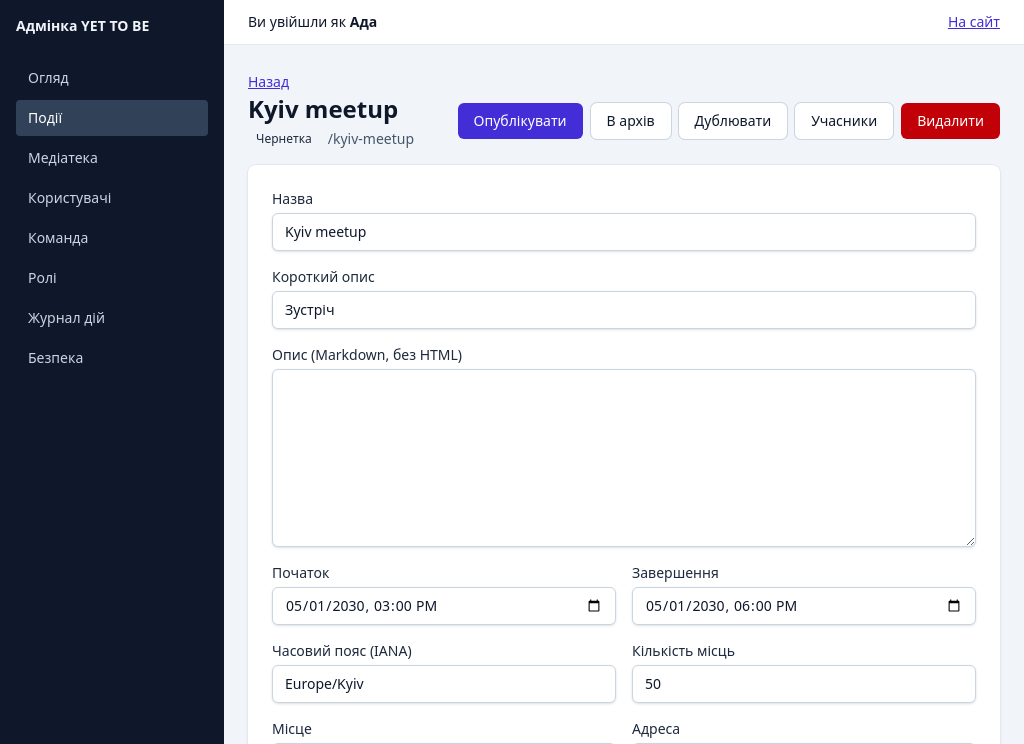
it: події › конфлікт версій показує вікно з пропозицією оновити
The image size is (1024, 744).
Click the button "Опублікувати" at coordinates (520, 121), box left=458, top=103, right=582, bottom=139
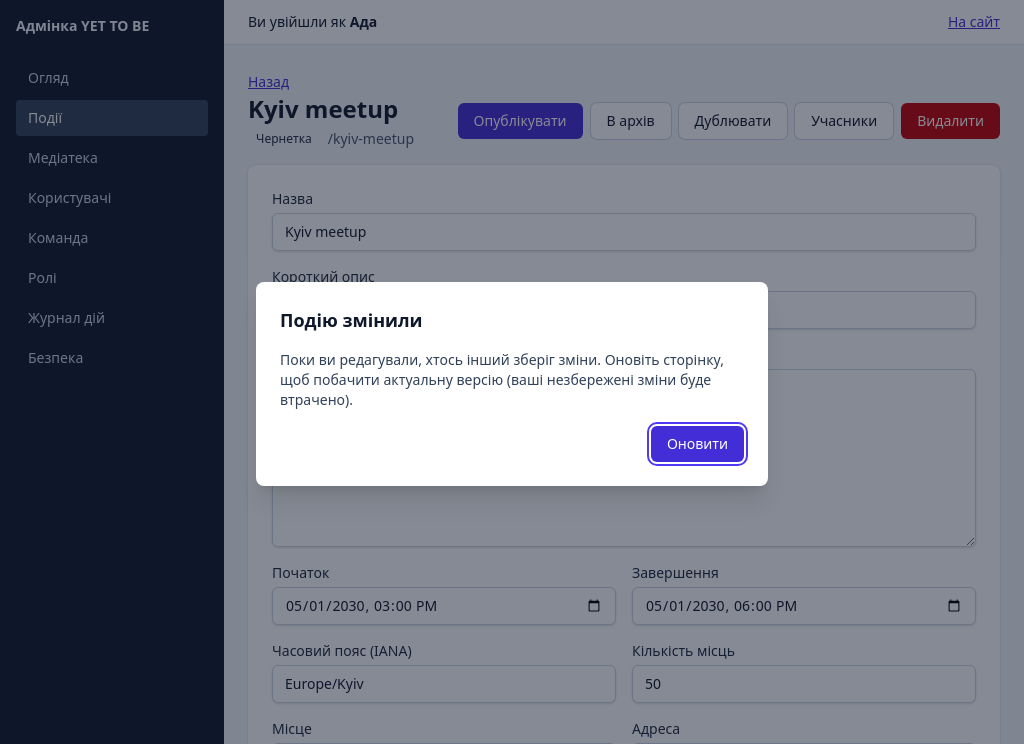
Now the dialog "Подію змінили" is shown, box left=256, top=282, right=768, bottom=486
